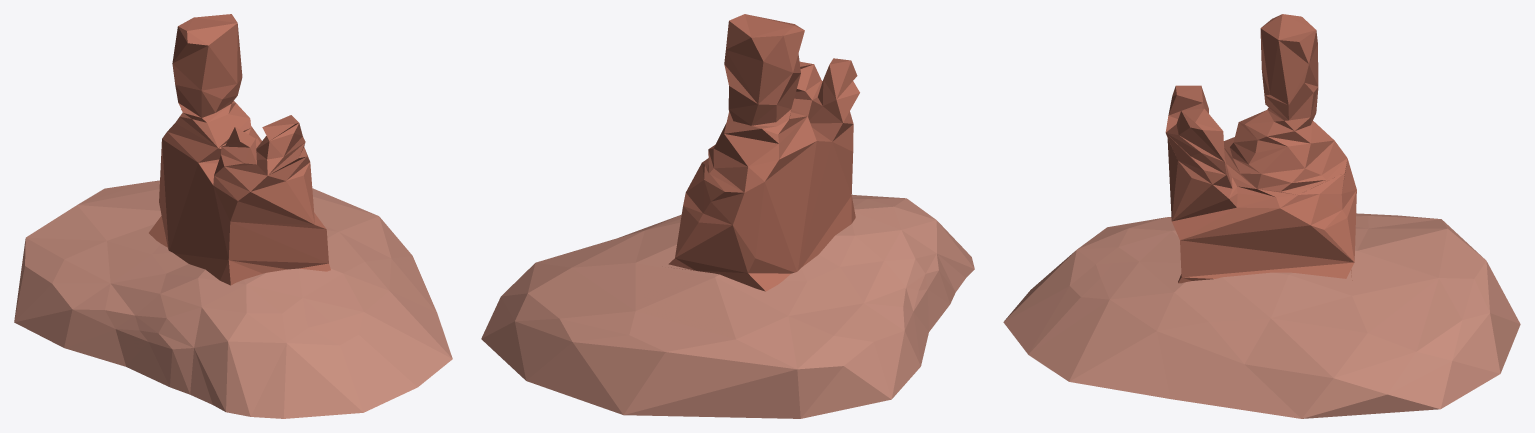
Rendered from rock_017.fbx.
The picture shows the model from 3 angles, left to right: view 1: azimuth 30°, elevation 25°; view 2: azimuth 150°, elevation 25°; view 3: azimuth 270°, elevation 25°; orthographic projection. The views are drawn at different scales.
Parts seen in each view (by area): view 1: rock_017; view 2: rock_017; view 3: rock_017.
Part boxes in pixels (box(x1,y1,x2,y2)): rock_017: box(14, 14, 452, 418); rock_017: box(481, 14, 974, 418); rock_017: box(1003, 14, 1520, 418).
Bounding box in the file's own units: 1849 × 2249 × 1390.
